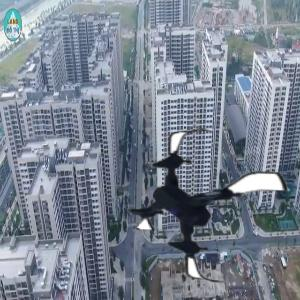drone: (126, 123, 291, 288)
